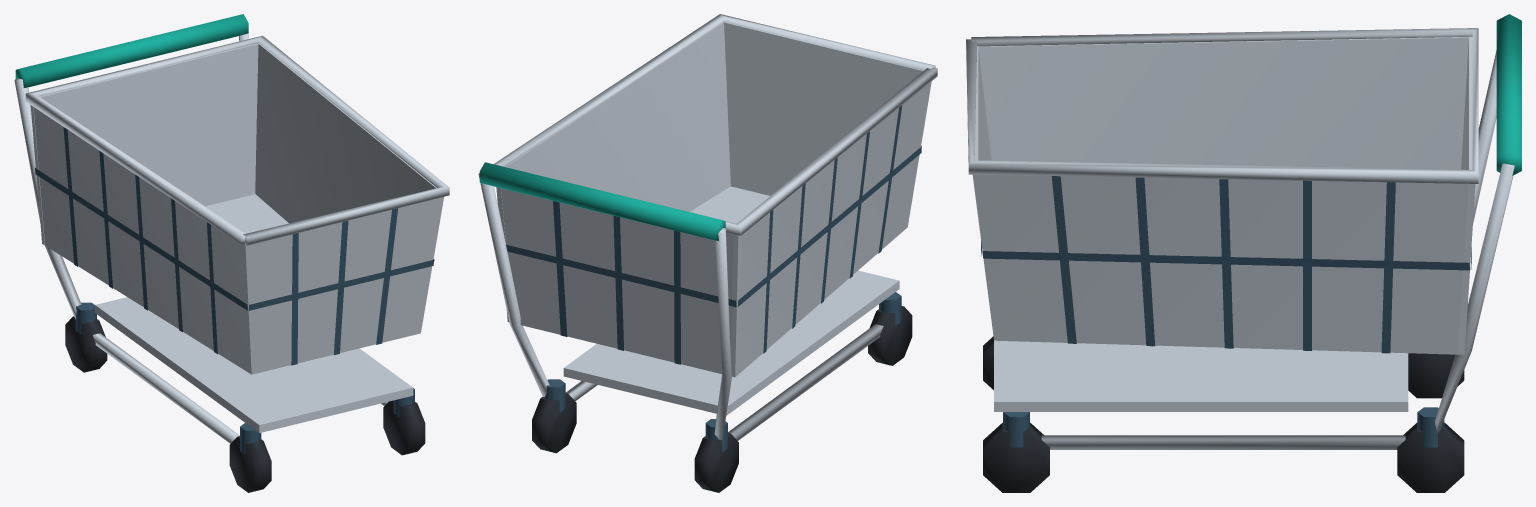
The model's file is CM_Interior_ShoppingCart.fbx.
3 renders of one model, left to right at view 1: azimuth 30°, elevation 25°; view 2: azimuth 150°, elevation 25°; view 3: azimuth 270°, elevation 25°, orthographic. The views are drawn at different scales.
Parts seen in each view (by area): view 1: Body; view 2: Body; view 3: Body.
Part boxes in pixels (bbox=[...]): Body: bbox=[14, 14, 449, 492]; Body: bbox=[478, 14, 937, 492]; Body: bbox=[966, 14, 1521, 492].
Bounding box in the file's own units: 3.08 × 4.96 × 3.53.
1 material, 1 textured.
